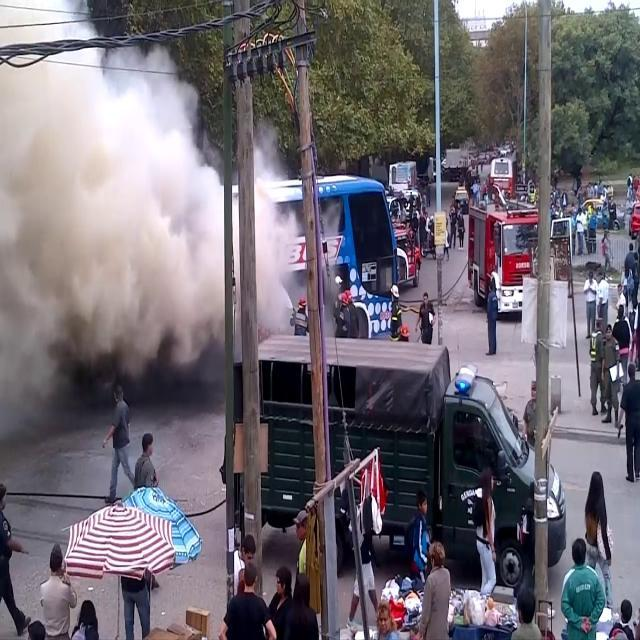Smoke: (0, 3, 224, 418), (248, 118, 296, 358)
